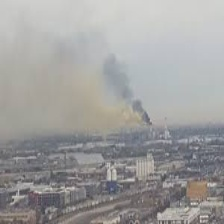smoke: (48, 39, 154, 126)
